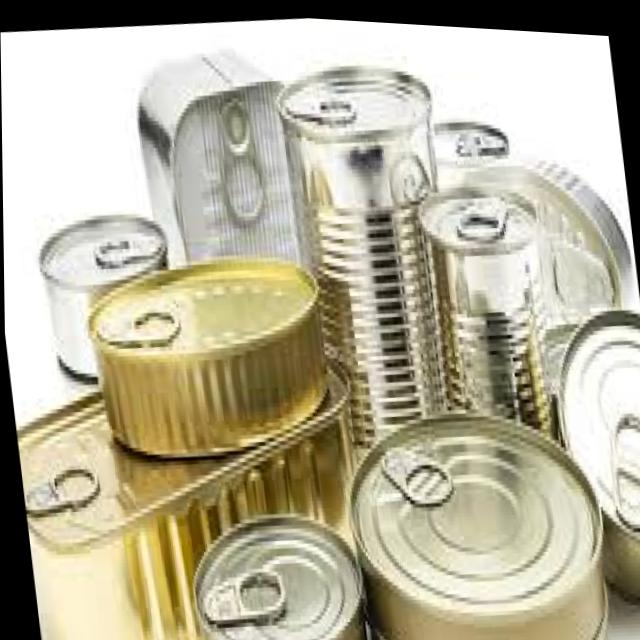Lata: (81, 250, 335, 469)
